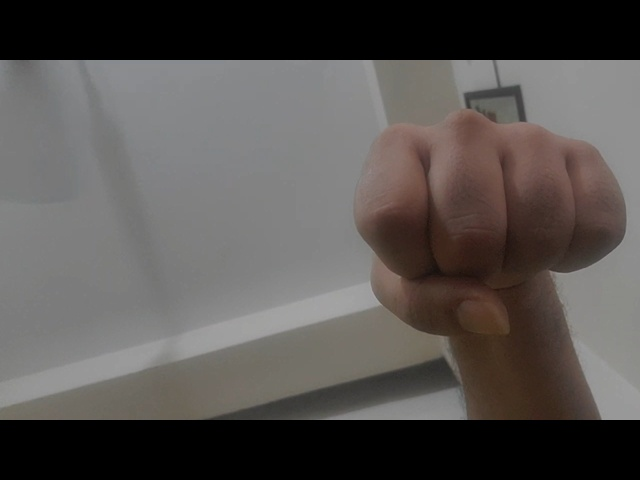Yes: (302, 95, 636, 350)
